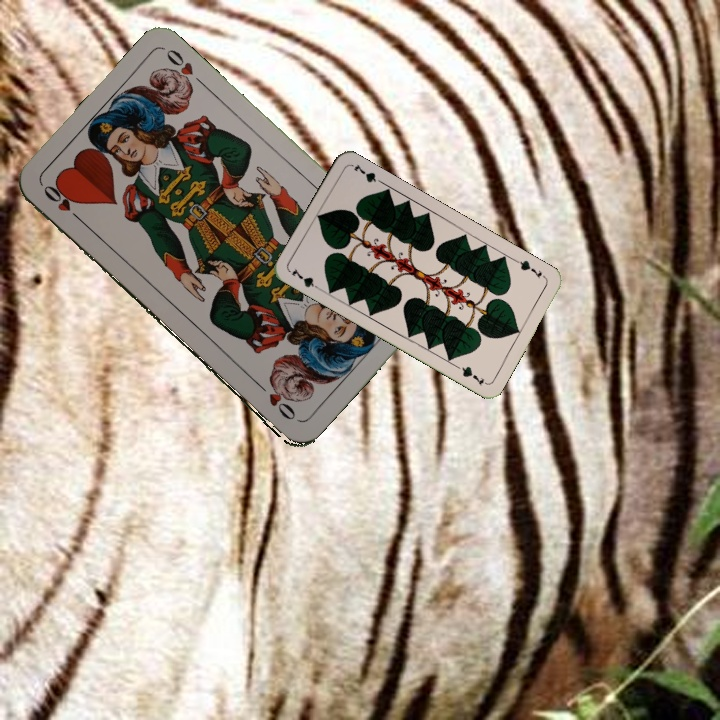G7: (287, 265, 324, 293), (511, 256, 549, 281)
HO: (39, 181, 86, 226)
